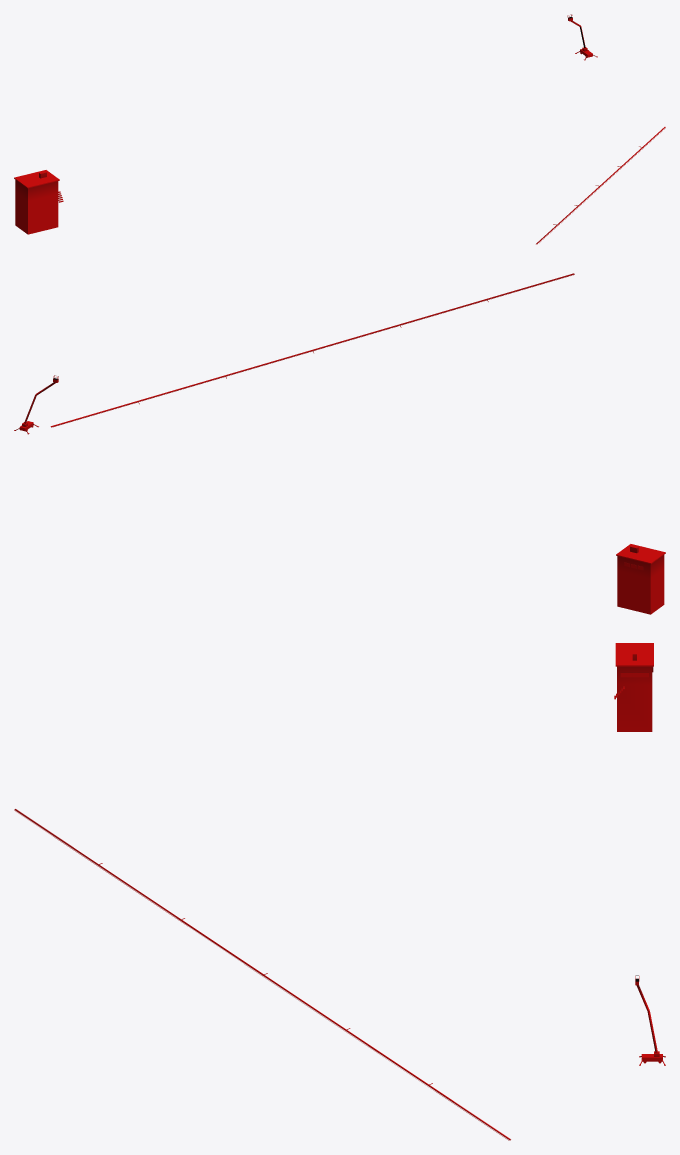
The model's file is dish_props.glb.
The picture shows the model from 3 angles, top to bottom: view 1: azimuth 30°, elevation 25°; view 2: azimuth 150°, elevation 25°; view 3: azimuth 270°, elevation 25°; orthographic projection. The views are drawn at different scales.
Parts seen in each view (by area): view 1: dish_props; view 2: dish_props; view 3: dish_props.
Part boxes in pixels (x1,y1,x2,y2): dish_props: (14, 14, 665, 244); dish_props: (14, 273, 665, 614); dish_props: (14, 643, 665, 1140).
Bounding box in the file's own units: 276 × 40.23 × 183.
